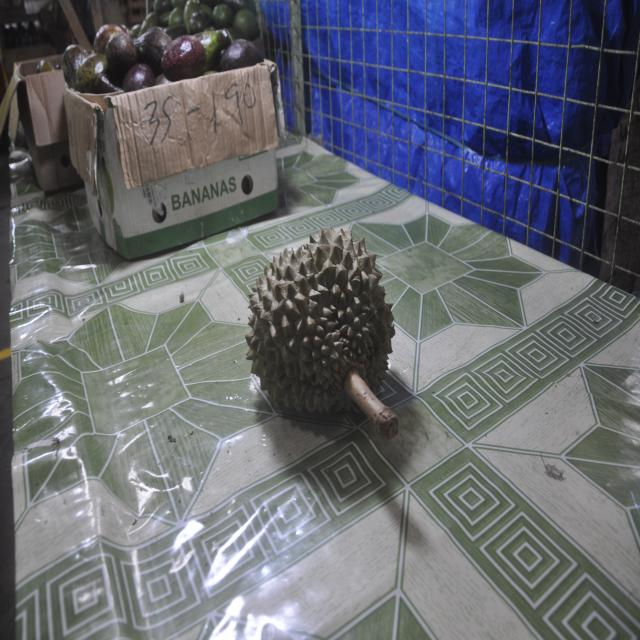mature: (246, 228, 398, 439)
